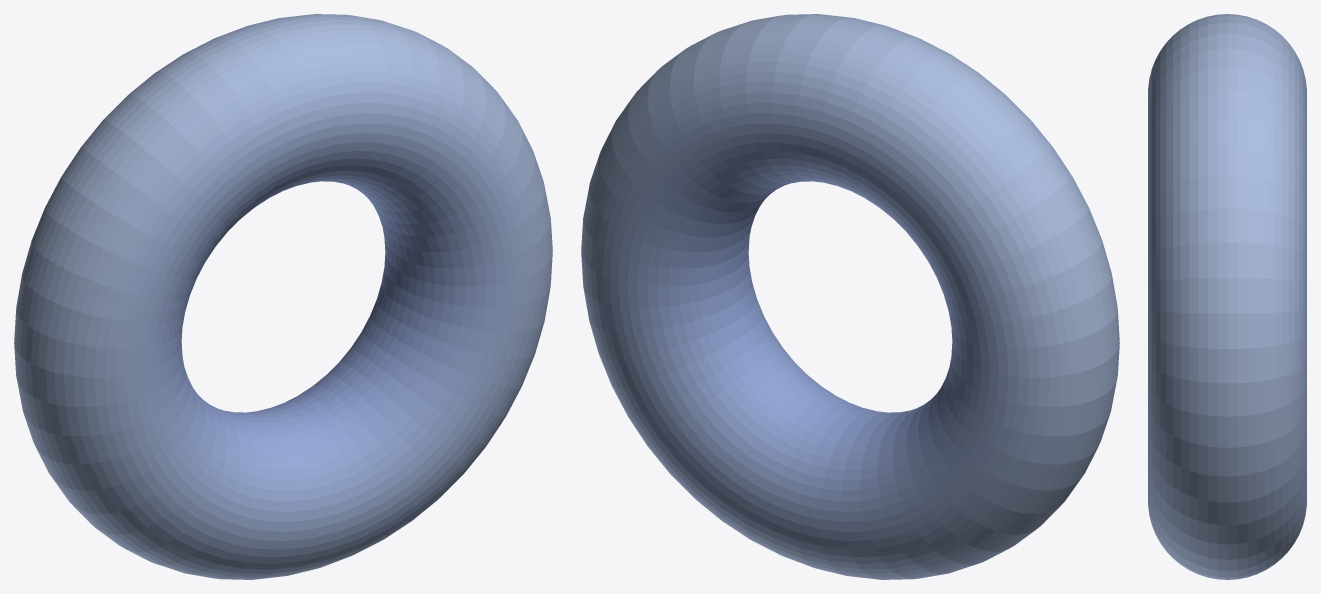
3 renders of one model, left to right at view 1: azimuth 30°, elevation 25°; view 2: azimuth 150°, elevation 25°; view 3: azimuth 270°, elevation 25°, orthographic. The views are drawn at different scales.
Parts seen in each view (by area): view 1: world; view 2: world; view 3: world.
Part boxes in pixels (box(x1,y1,x2,y2)): world: box(14, 14, 552, 579); world: box(581, 14, 1119, 579); world: box(1148, 14, 1306, 579).
Size of the model in its own units: 20.4 by 20.36 by 5.72.
